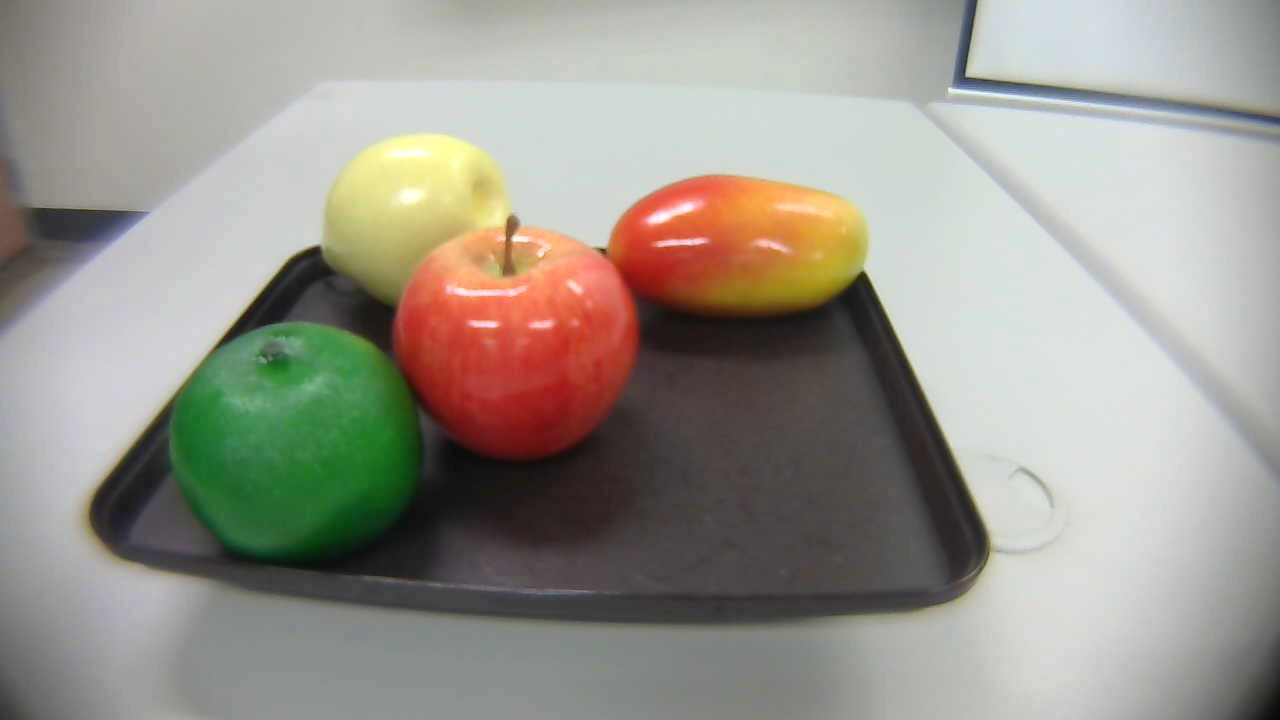green orange: (162, 319, 432, 553)
red apple: (388, 214, 638, 476)
red mango: (605, 168, 880, 348)
western pear: (315, 133, 525, 308)
